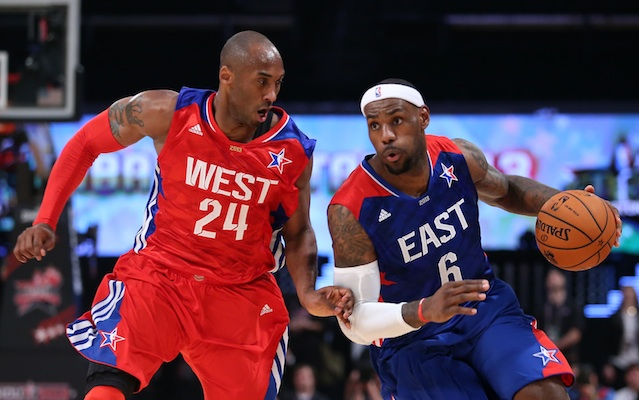basketball: (534, 188, 617, 272)
